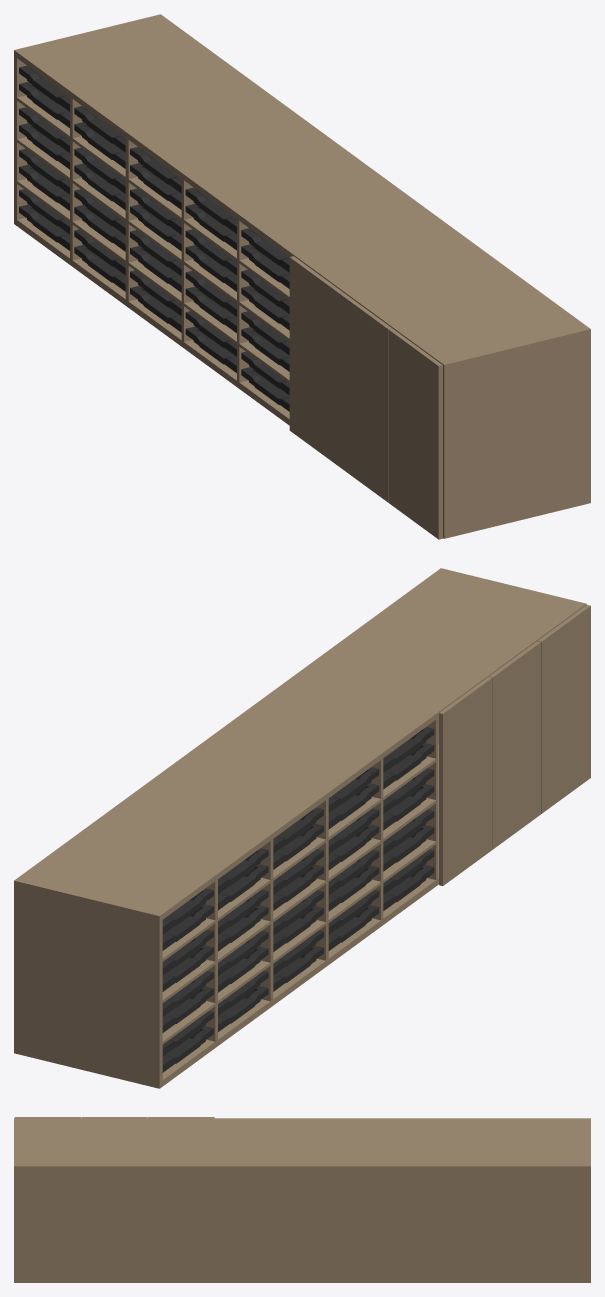
Rendered from shortShelf.fbx.
The picture shows the model from 3 angles, top to bottom: view 1: azimuth 30°, elevation 25°; view 2: azimuth 150°, elevation 25°; view 3: azimuth 270°, elevation 25°; orthographic projection. The views are drawn at different scales.
Visible parts, largest first — view 1: reol.002, Cube.043, Cube.021, Cube.022, Cube.010, Cube.013, Cube.014, Cube.025, Cube.017, Cube.018, Cube.029, Cube.030 (+25 smaller); view 2: reol.002, Cube.043, Cube.006, Cube.009, Cube.002, Cube.005, Cube.033, Cube.029, Cube.030, Cube.034, Cube.037, Cube.026 (+25 smaller); view 3: reol.002, Cube.043.
Part boxes in pixels (<box>): reol.002: <box>14,14,590,538</box>; Cube.043: <box>289,256,442,539</box>; Cube.021: <box>130,204,181,251</box>; Cube.022: <box>130,246,181,292</box>; Cube.010: <box>74,245,125,291</box>; Cube.013: <box>74,205,125,251</box>; Cube.014: <box>74,163,125,210</box>; Cube.025: <box>130,285,181,332</box>; Cube.017: <box>74,122,125,168</box>; Cube.018: <box>130,163,181,209</box>; Cube.029: <box>185,286,236,333</box>; Cube.030: <box>185,245,236,291</box>; reol.002: <box>14,568,586,1088</box>; Cube.043: <box>439,605,590,885</box>; Cube.006: <box>162,986,213,1032</box>; Cube.009: <box>162,1026,213,1072</box>; Cube.002: <box>162,904,213,950</box>; Cube.005: <box>162,945,213,991</box>; Cube.033: <box>328,783,379,829</box>; Cube.029: <box>328,865,379,911</box>; Cube.030: <box>328,824,379,870</box>; Cube.034: <box>383,743,434,789</box>; Cube.037: <box>383,784,434,830</box>; Cube.026: <box>328,905,379,950</box>; reol.002: <box>14,1118,590,1282</box>; Cube.043: <box>14,1117,214,1118</box>.
Bounding box in the file's own units: 97.82 × 107 × 481.
